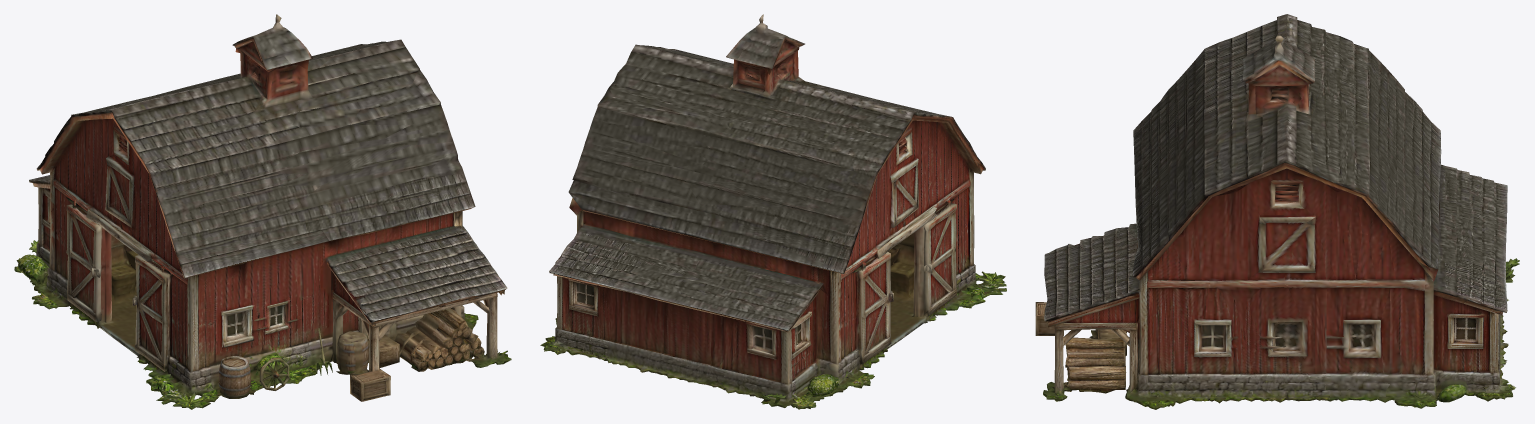
The model's file is tripo_convert_52715d3f-e9d3-4480-9666-c4e58055ca25.fbx.
The picture shows the model from 3 angles, left to right: view 1: azimuth 30°, elevation 25°; view 2: azimuth 150°, elevation 25°; view 3: azimuth 270°, elevation 25°; orthographic projection. The views are drawn at different scales.
Parts seen in each view (by area): view 1: tripo_node_52715d3f; view 2: tripo_node_52715d3f; view 3: tripo_node_52715d3f.
Part boxes in pixels (bbox=[...]): tripo_node_52715d3f: bbox=[14, 14, 511, 409]; tripo_node_52715d3f: bbox=[540, 14, 1006, 409]; tripo_node_52715d3f: bbox=[1035, 14, 1519, 409].
Size of the model in its own units: 0.7924 by 0.6844 by 0.9834.
Materials: 1 (1 with a texture image).
